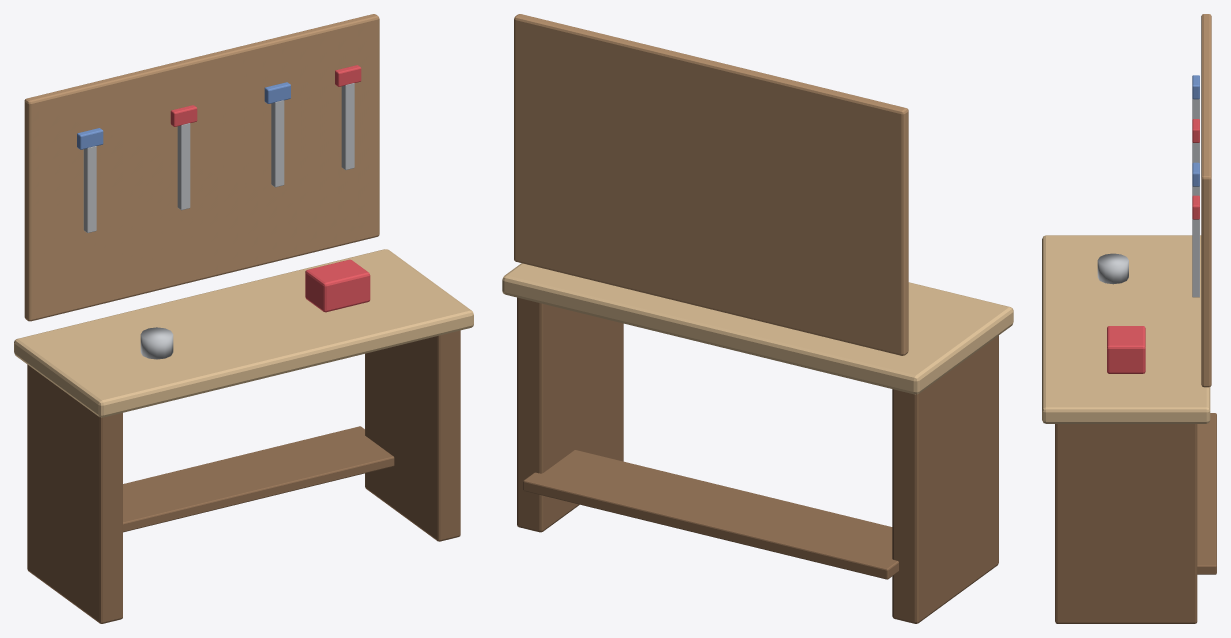
The model's file is GarageWorkbench.fbx.
The picture shows the model from 3 angles, left to right: view 1: azimuth 30°, elevation 25°; view 2: azimuth 150°, elevation 25°; view 3: azimuth 270°, elevation 25°; orthographic projection. The views are drawn at different scales.
Visible parts, largest first — view 1: GarageWorkbench; view 2: GarageWorkbench; view 3: GarageWorkbench.
Part boxes in pixels (<box>): GarageWorkbench: <box>14,14,473,623</box>; GarageWorkbench: <box>502,14,1013,623</box>; GarageWorkbench: <box>1042,14,1216,623</box>.
Size of the model in its own units: 160 by 190 by 67.5.
